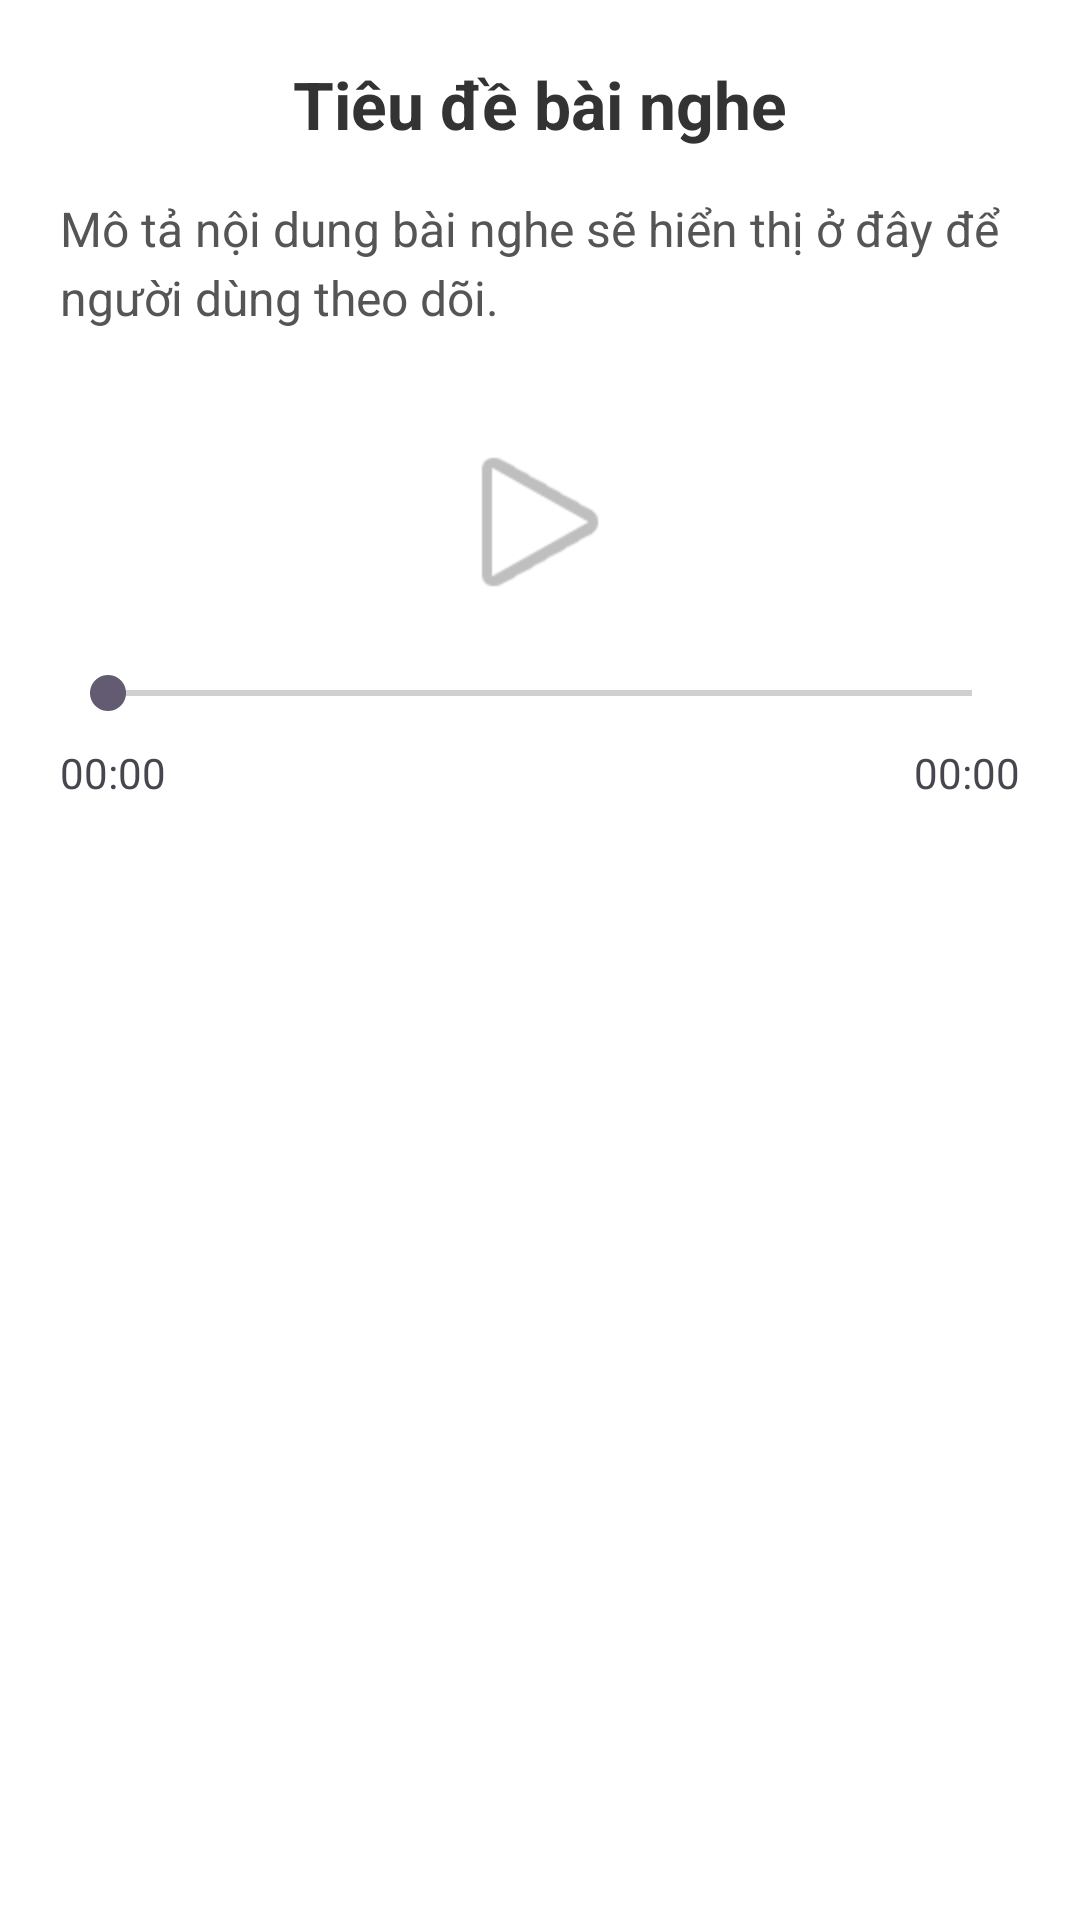

Named icons in this screenshot (1080 x 1920) and their bounding boxes, {"left": x1, "top": y1, "right": x2, "bottom": y2}:
play: {"left": 482, "top": 458, "right": 598, "bottom": 586}
